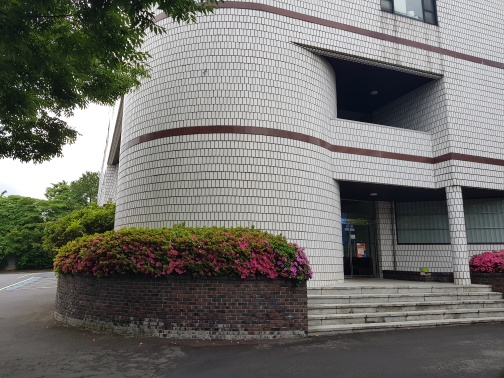Foreign Language Institute: (86, 18, 503, 333), (312, 161, 503, 321)
